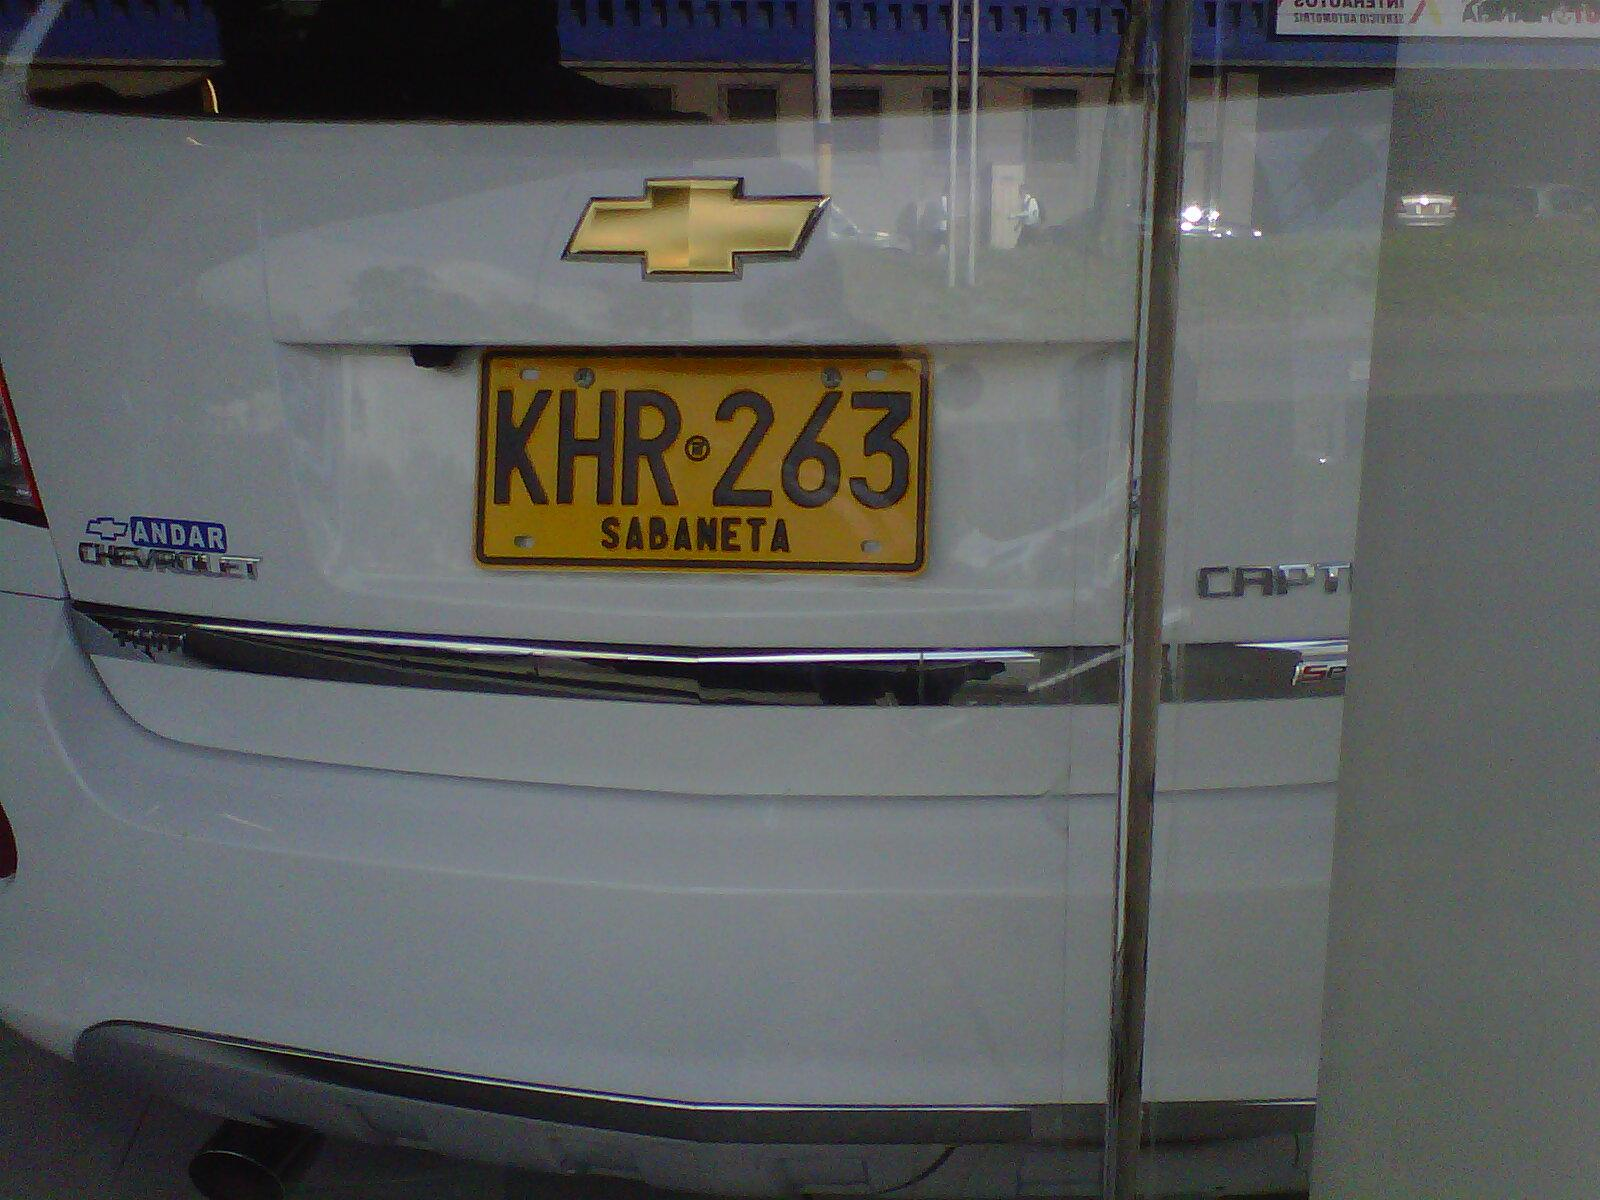placas: (466, 339, 941, 585)
